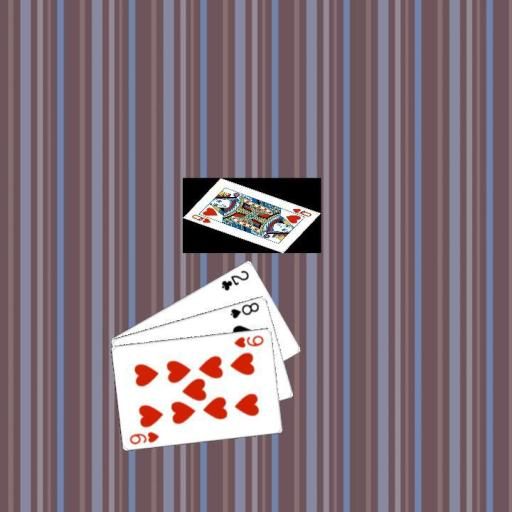2C: (219, 267, 251, 292)
8S: (227, 299, 261, 319)
9H: (231, 332, 265, 349), (127, 428, 161, 445)
